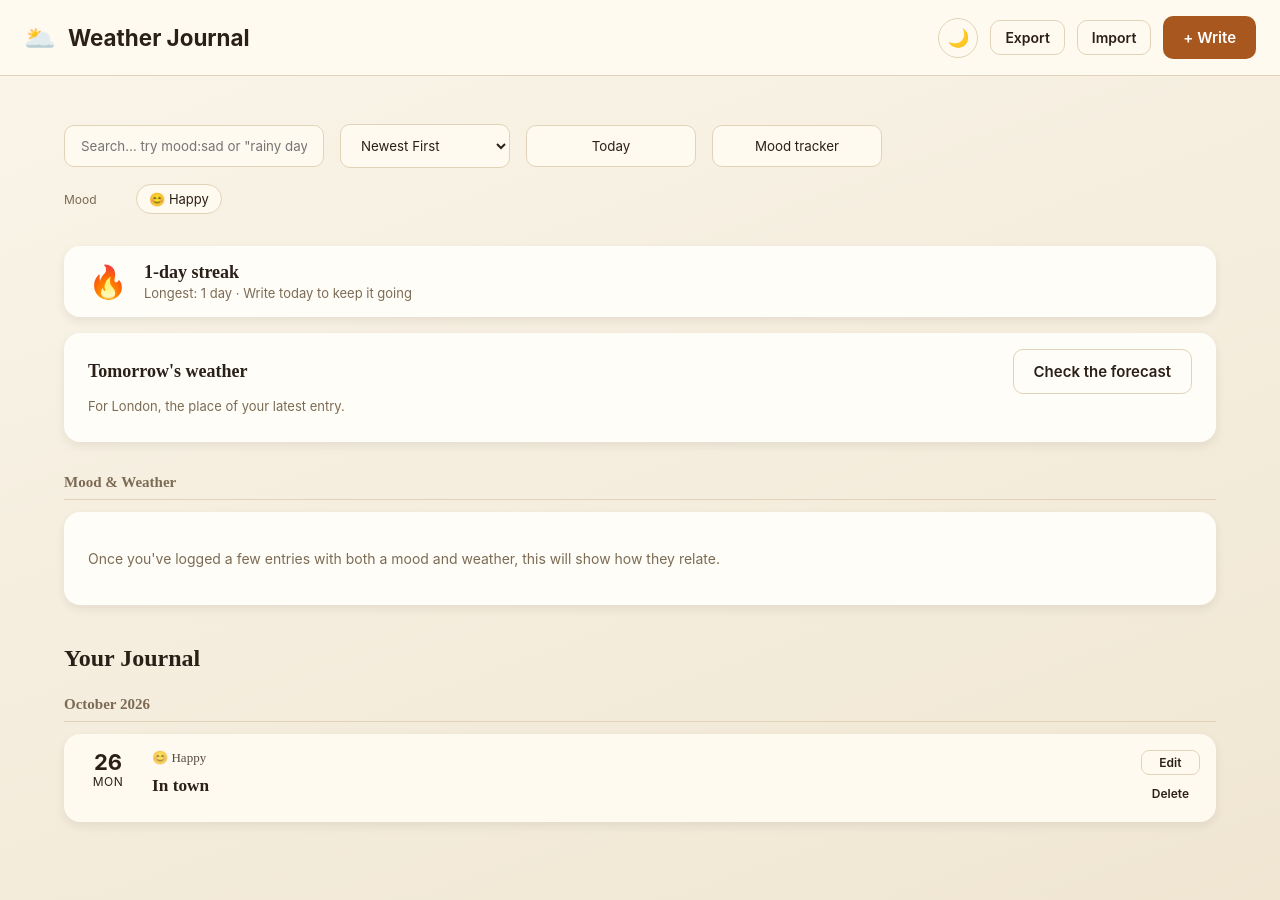
Test: Tomorrow forecast card › shows an error when the forecast cannot load
This screenshot has width=1280, height=900.
Click the button "Check the forecast".
click(1102, 372)  # box [1012,349,1192,394]
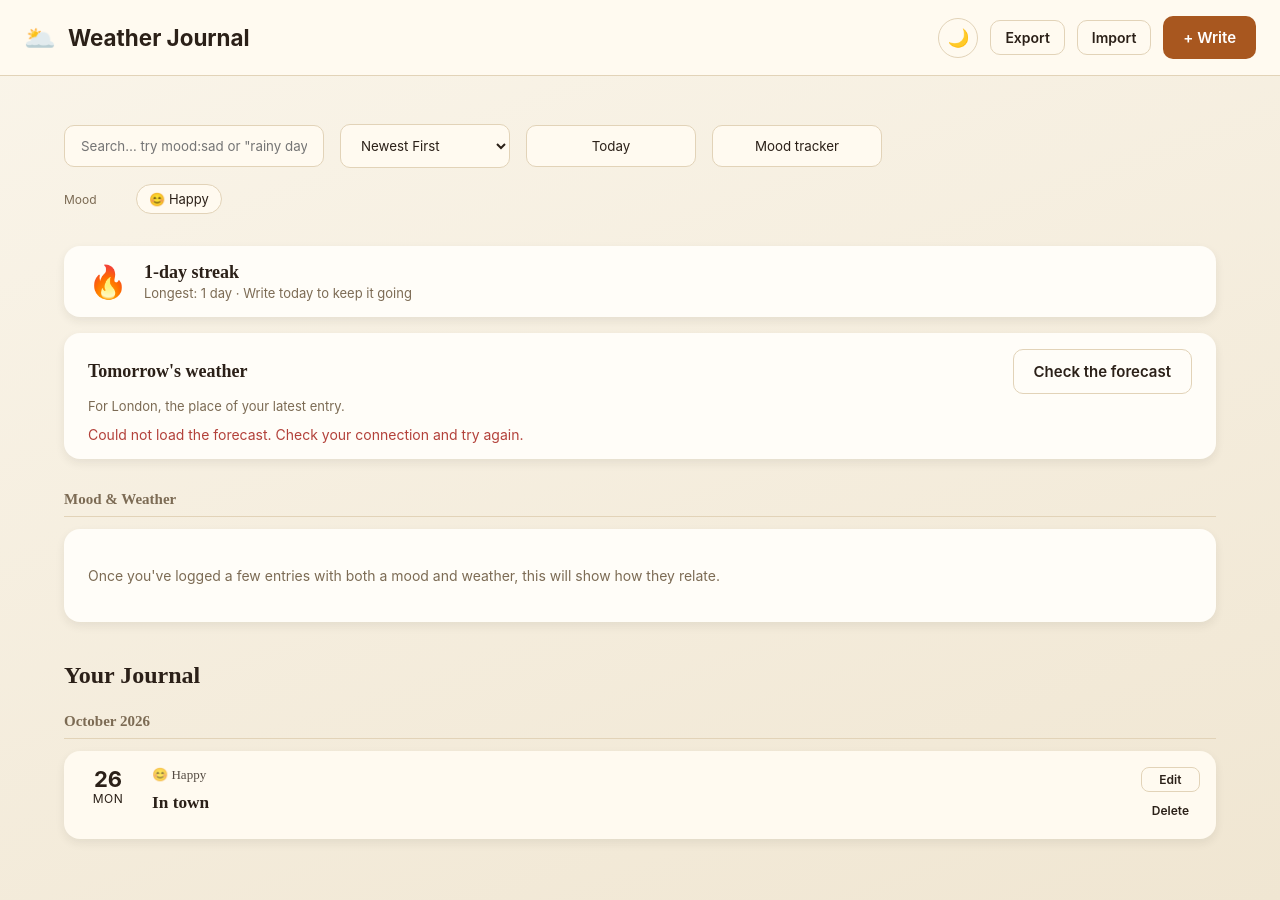
Check: the message shows "Could not load the forecast", box [88,426,524,443]
